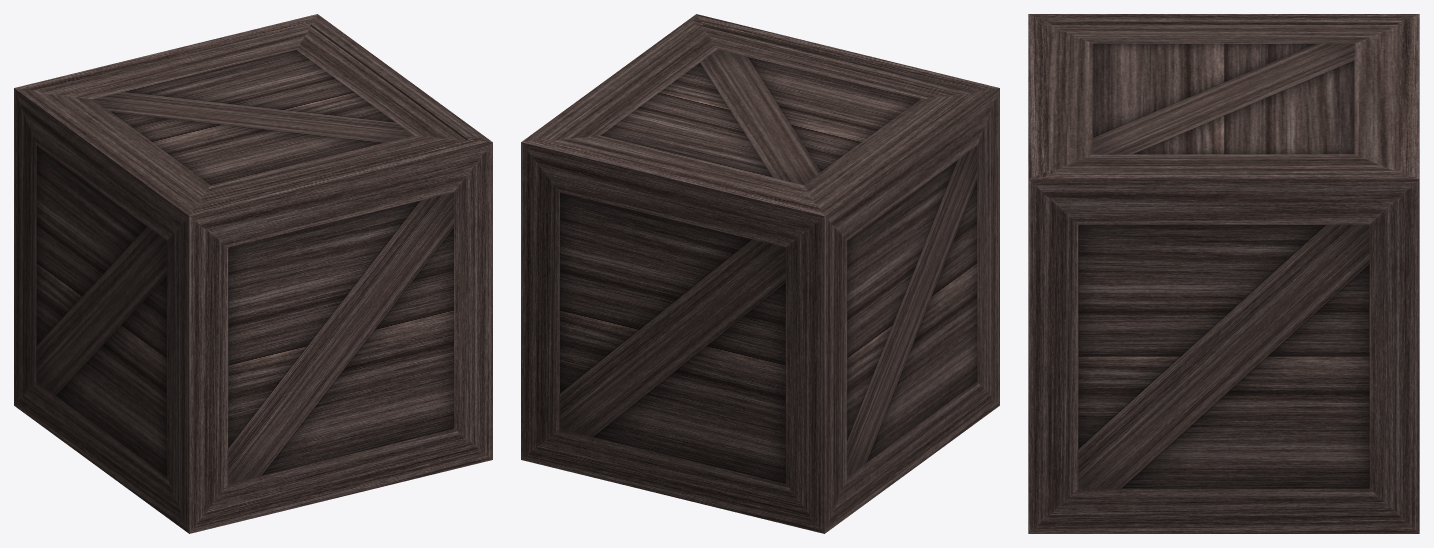
Rendered from MonkeyInABox.glb.
The picture shows the model from 3 angles, left to right: view 1: azimuth 30°, elevation 25°; view 2: azimuth 150°, elevation 25°; view 3: azimuth 270°, elevation 25°; orthographic projection. The views are drawn at different scales.
Visible parts, largest first — view 1: Cube, Latch; view 2: Cube, Latch; view 3: Cube, Latch.
Boxes of the visible parts, <box> form: Cube: <box>14,14,492,533</box>; Latch: <box>41,26,465,205</box>; Cube: <box>521,14,999,533</box>; Latch: <box>548,26,972,205</box>; Cube: <box>1028,14,1419,533</box>; Latch: <box>1048,25,1399,170</box>.
Size of the model in its own units: 2.23 by 2.23 by 2.23.
Materials: 2 (2 with a texture image).
